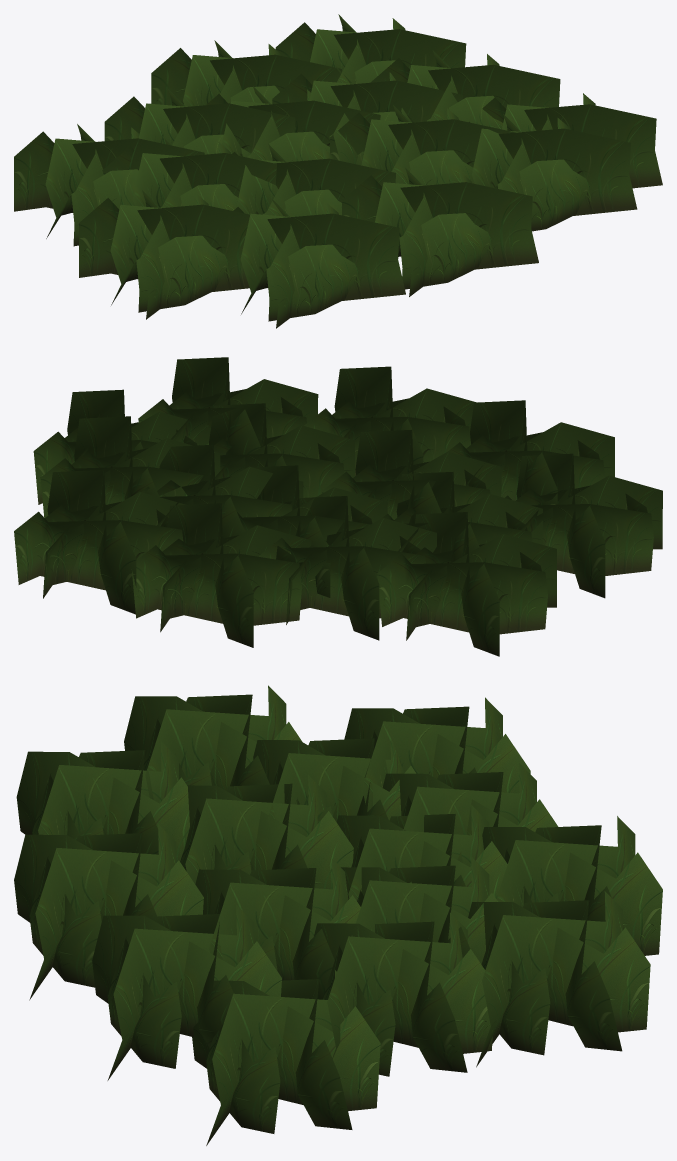
File: BSwap_GrassPatches_01.dae
The picture shows the model from 3 angles, top to bottom: view 1: azimuth 30°, elevation 25°; view 2: azimuth 150°, elevation 25°; view 3: azimuth 270°, elevation 25°; orthographic projection. The views are drawn at different scales.
Visible parts, largest first — view 1: GrassPatch01_014; view 2: GrassPatch01_014; view 3: GrassPatch01_014.
Part boxes in pixels (box(x1,y1,x2,y2)): GrassPatch01_014: box(14, 14, 662, 328); GrassPatch01_014: box(14, 357, 662, 656); GrassPatch01_014: box(14, 685, 662, 1145).
Size of the model in its own units: 233 by 182 by 42.97.
Materials: 1 (1 with a texture image).
